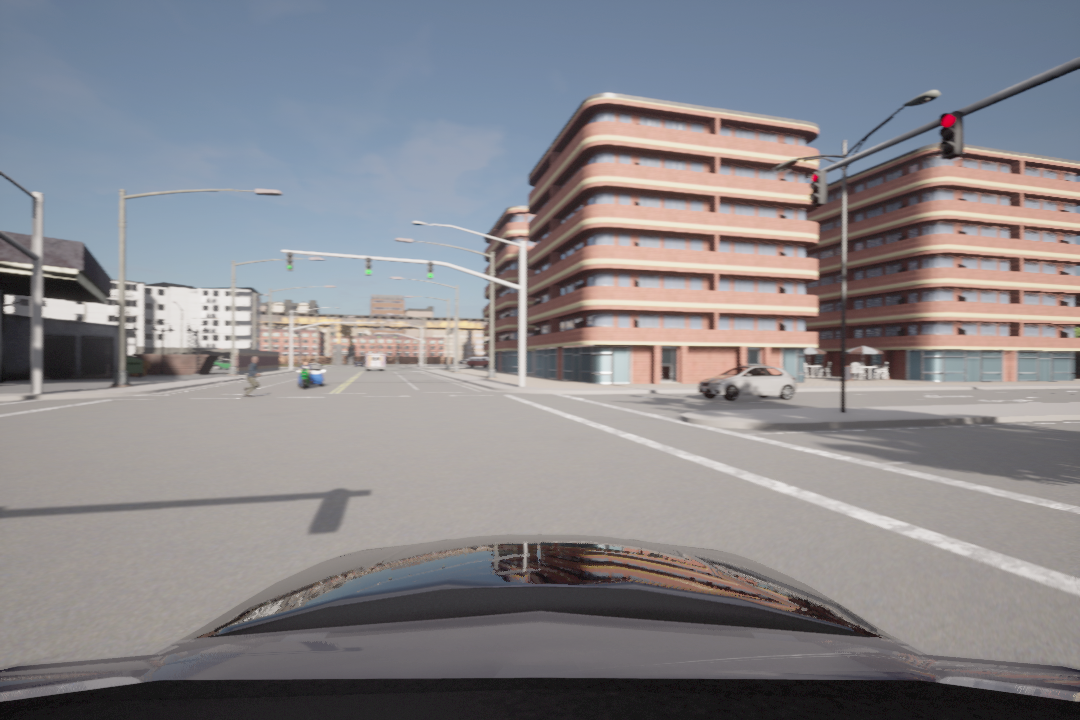TrafficLight: (940, 110, 968, 160), (807, 168, 827, 209), (424, 260, 435, 282), (282, 251, 294, 271), (362, 257, 372, 278)
